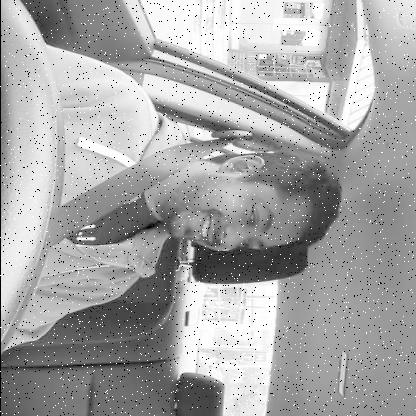seatbelt: (30, 117, 358, 287)
